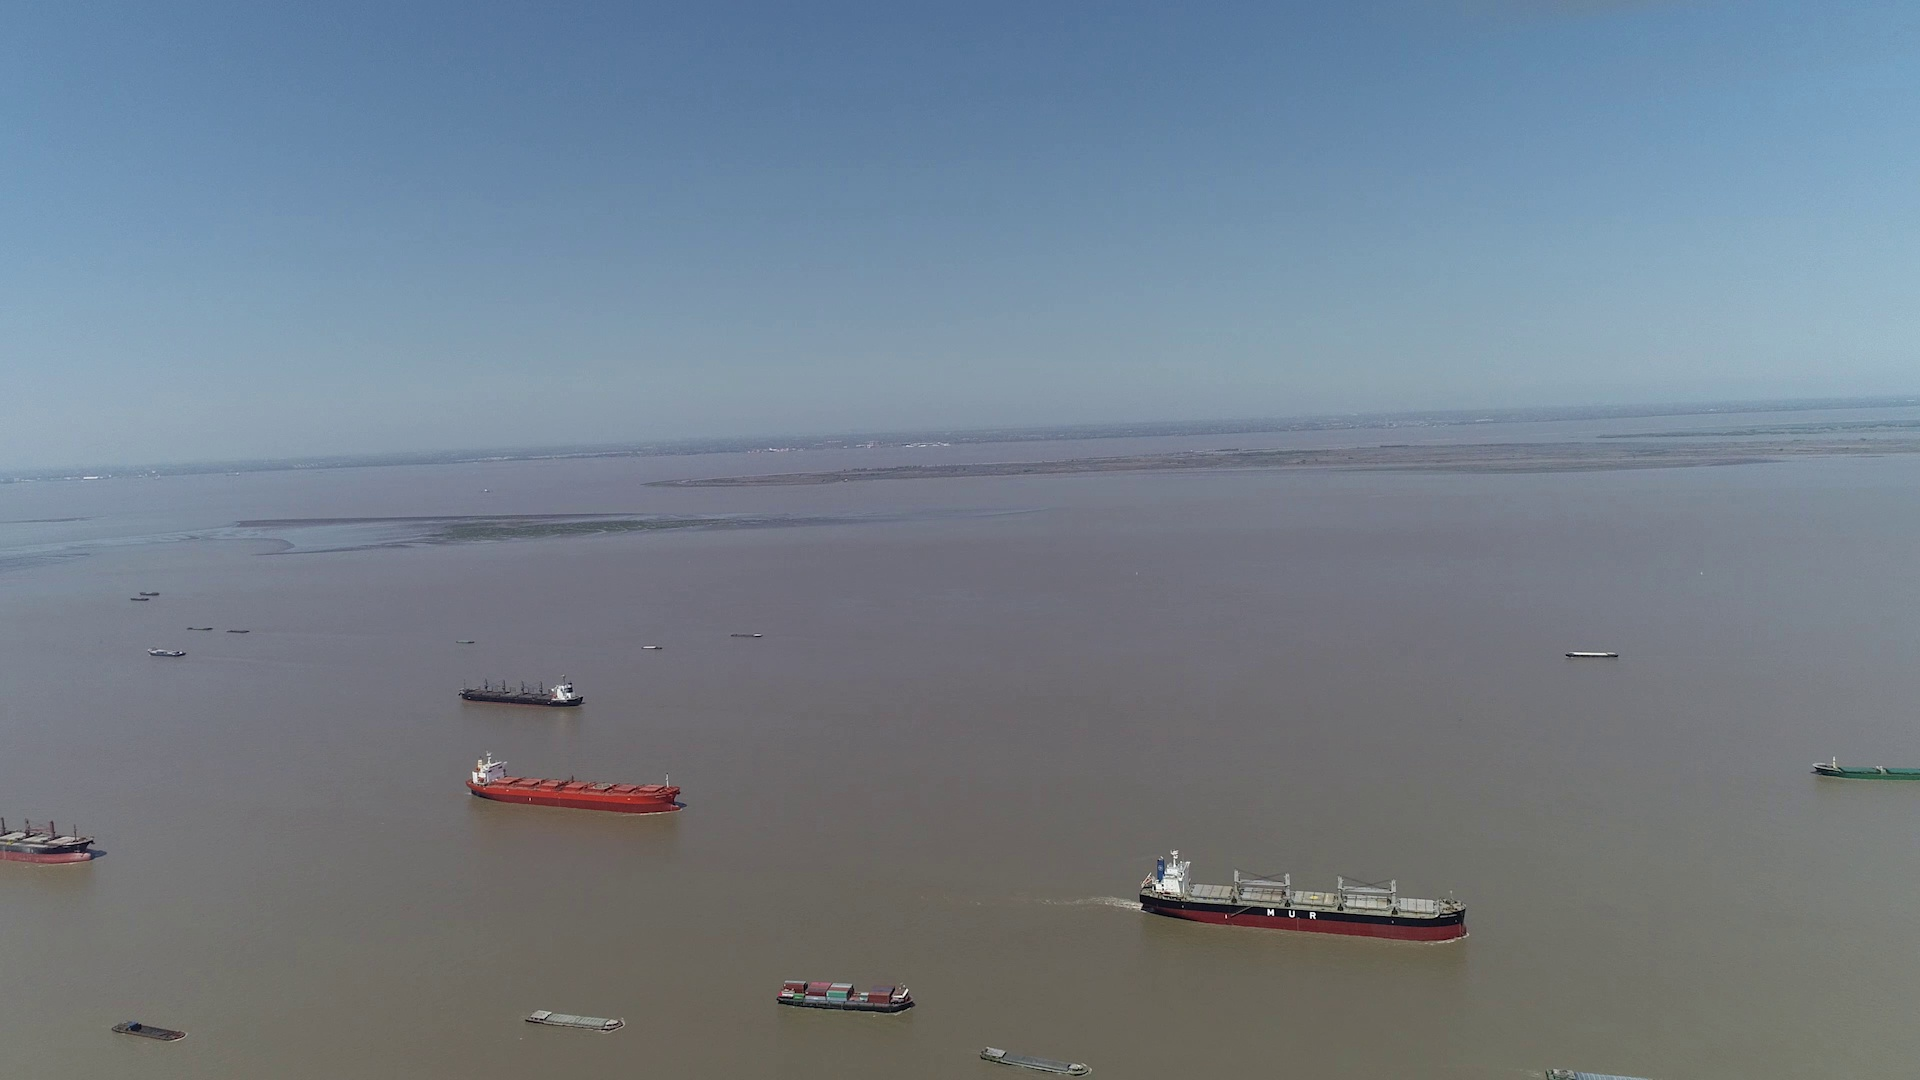ship: (1142, 851, 1468, 943), (465, 748, 682, 814), (1, 808, 102, 865), (778, 978, 916, 1011), (459, 676, 585, 707), (977, 1044, 1088, 1075), (1813, 758, 1917, 782), (524, 1007, 626, 1031), (113, 1022, 186, 1043), (1564, 650, 1618, 659), (145, 647, 185, 658)
